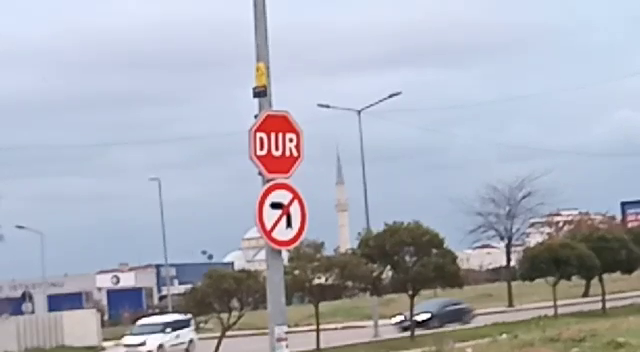no_left: (253, 178, 310, 253)
stop: (246, 108, 306, 181)
